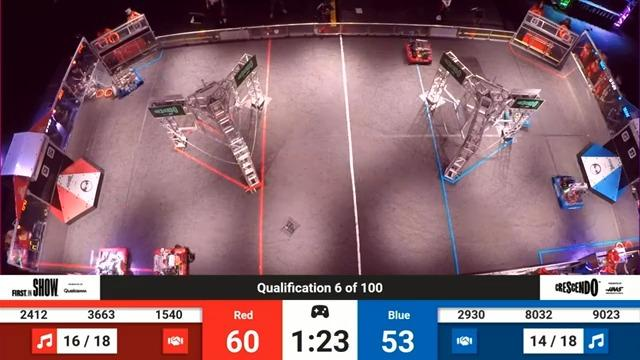robot: (155, 242, 196, 278), (507, 89, 538, 133), (111, 64, 148, 100), (402, 36, 442, 69), (556, 172, 589, 212), (91, 244, 131, 275)
